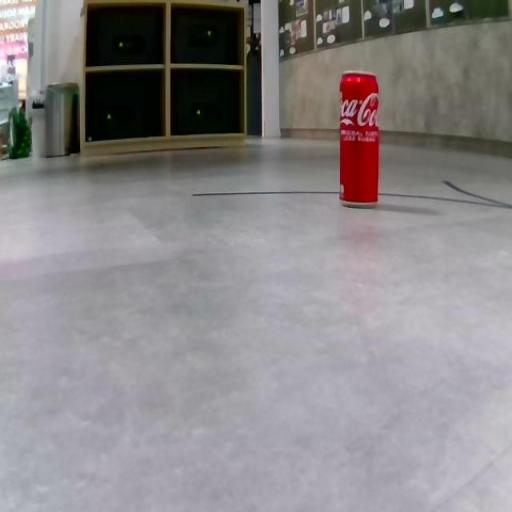bottle: (340, 70, 381, 210)
